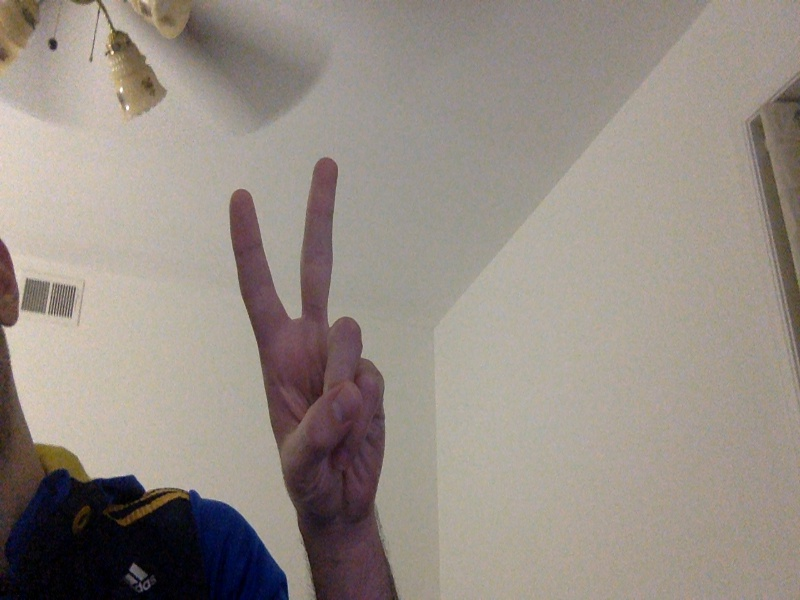2-hand: (229, 153, 384, 528)
